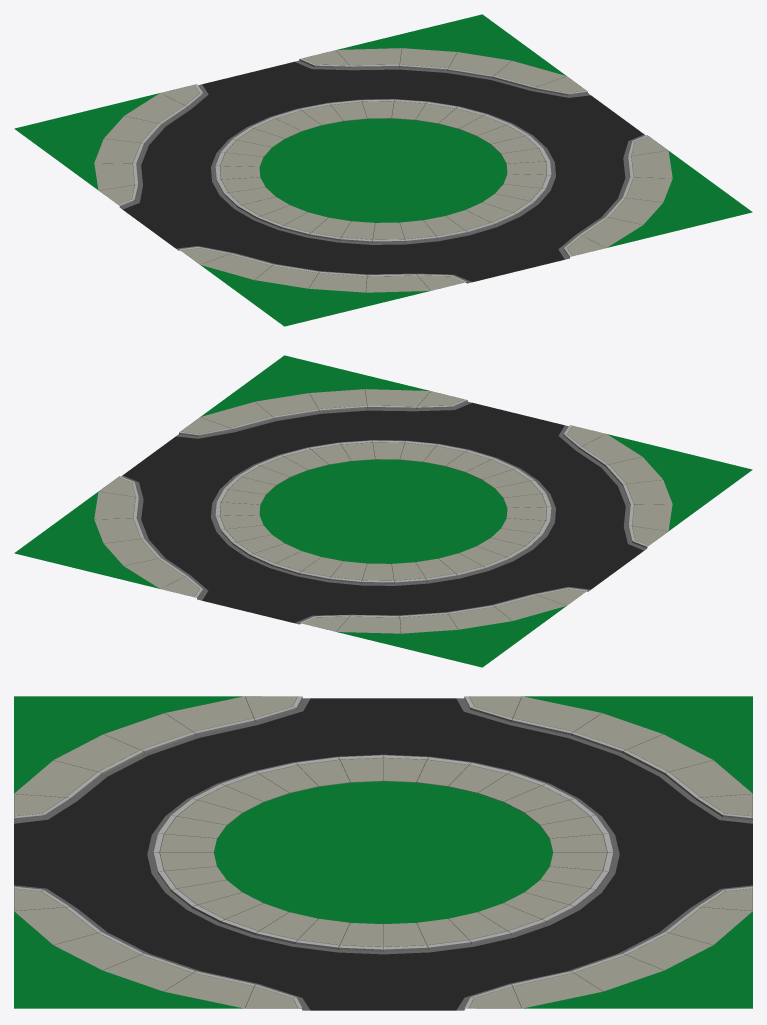
The model's file is Road-Roundabout.fbx.
3 views of the same model, one above another, from view 1: azimuth 30°, elevation 25°; view 2: azimuth 150°, elevation 25°; view 3: azimuth 270°, elevation 25° (orthographic). The views are drawn at different scales.
Visible parts, largest first — view 1: Sides, Road; view 2: Sides, Road; view 3: Sides, Road.
Part boxes in pixels (x1,y1,x2,y2): Sides: [14, 14, 752, 326]; Road: [120, 60, 645, 283]; Sides: [14, 355, 752, 667]; Road: [121, 401, 646, 624]; Sides: [14, 696, 752, 1009]; Road: [14, 698, 752, 1010].
Size of what is drawn, in the model's own units: 64 by 0.2 by 64.
